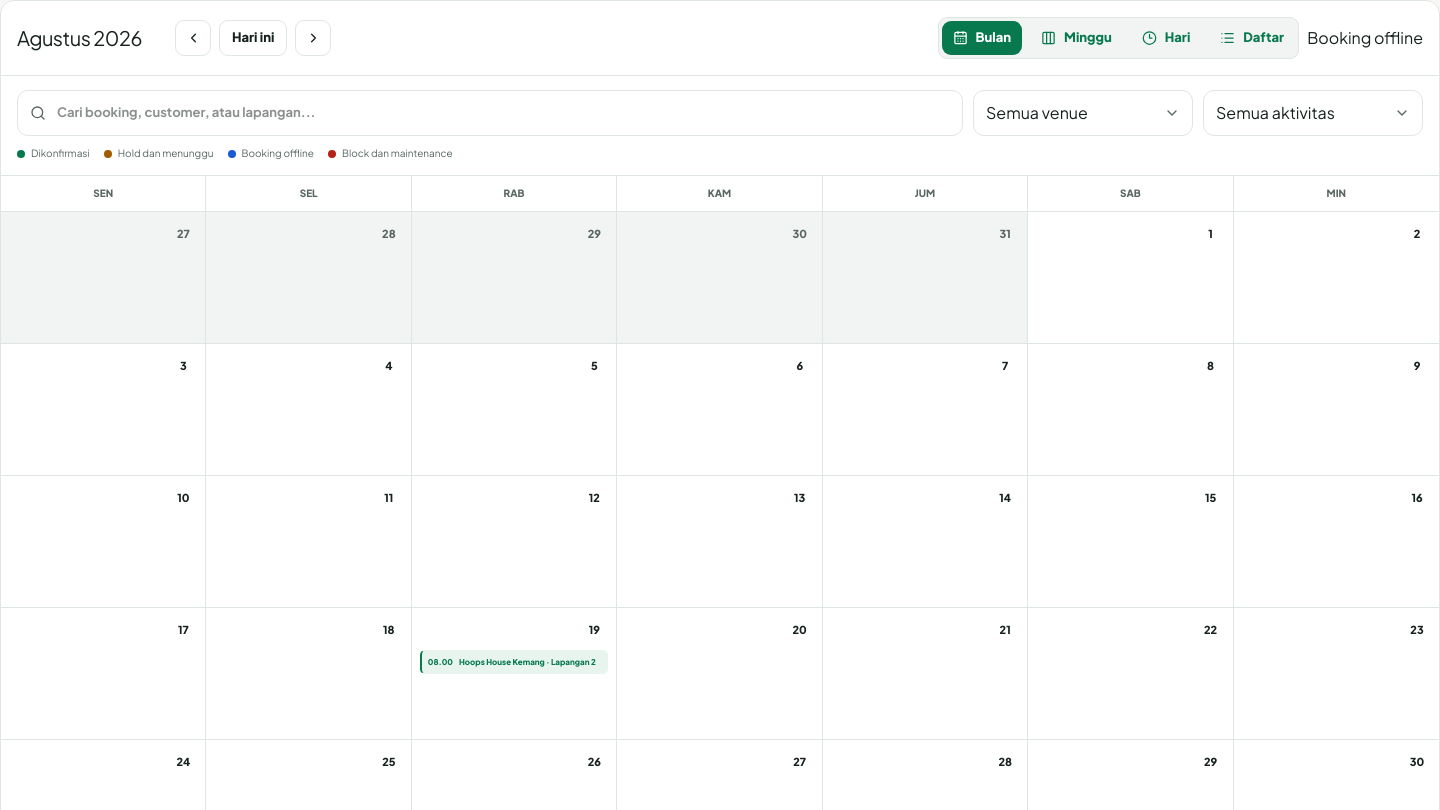
Test: OperationsCalendar › mengganti tampilan minggu dan daftar tanpa tombol pajangan
Click the button "Minggu" at {"x": 1076, "y": 38}, box [1030,21,1123,55]
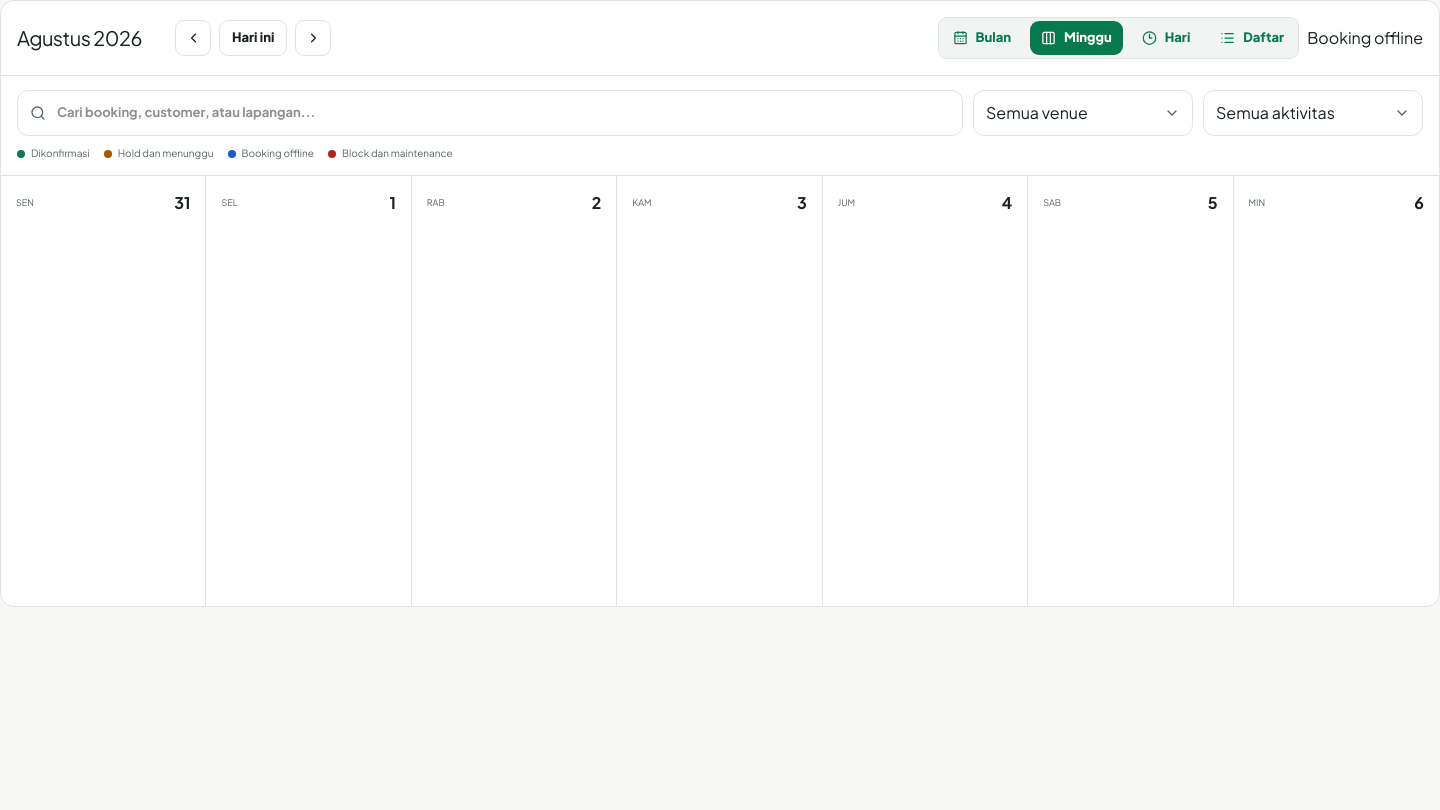
Check: the button "Minggu" is pressed, box [1030,21,1123,55]
Click the button "Daftar" at {"x": 1252, "y": 38}, box [1209,21,1295,55]
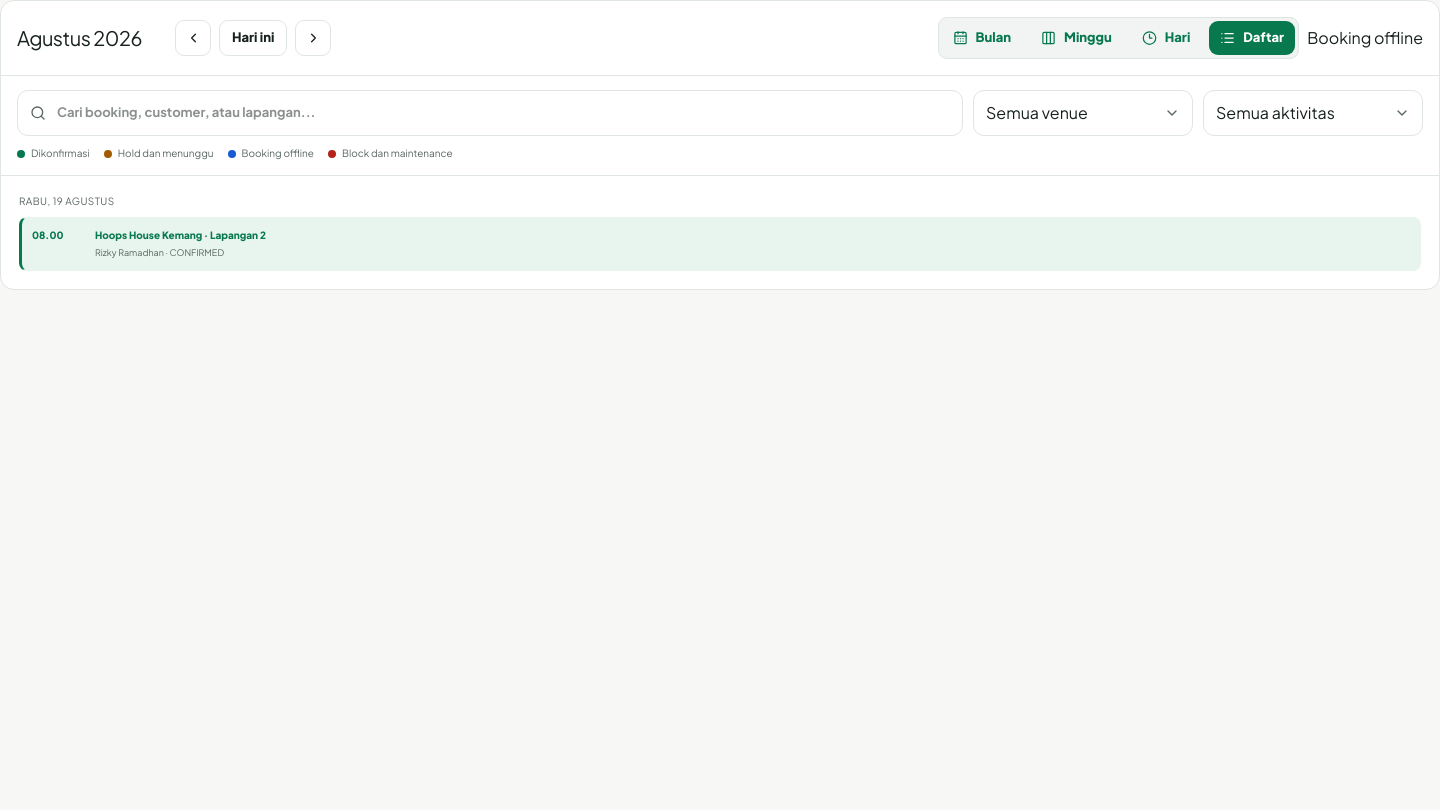
Check: the heading "Rabu, 19 Agustus" is shown, box [19,195,114,207]
